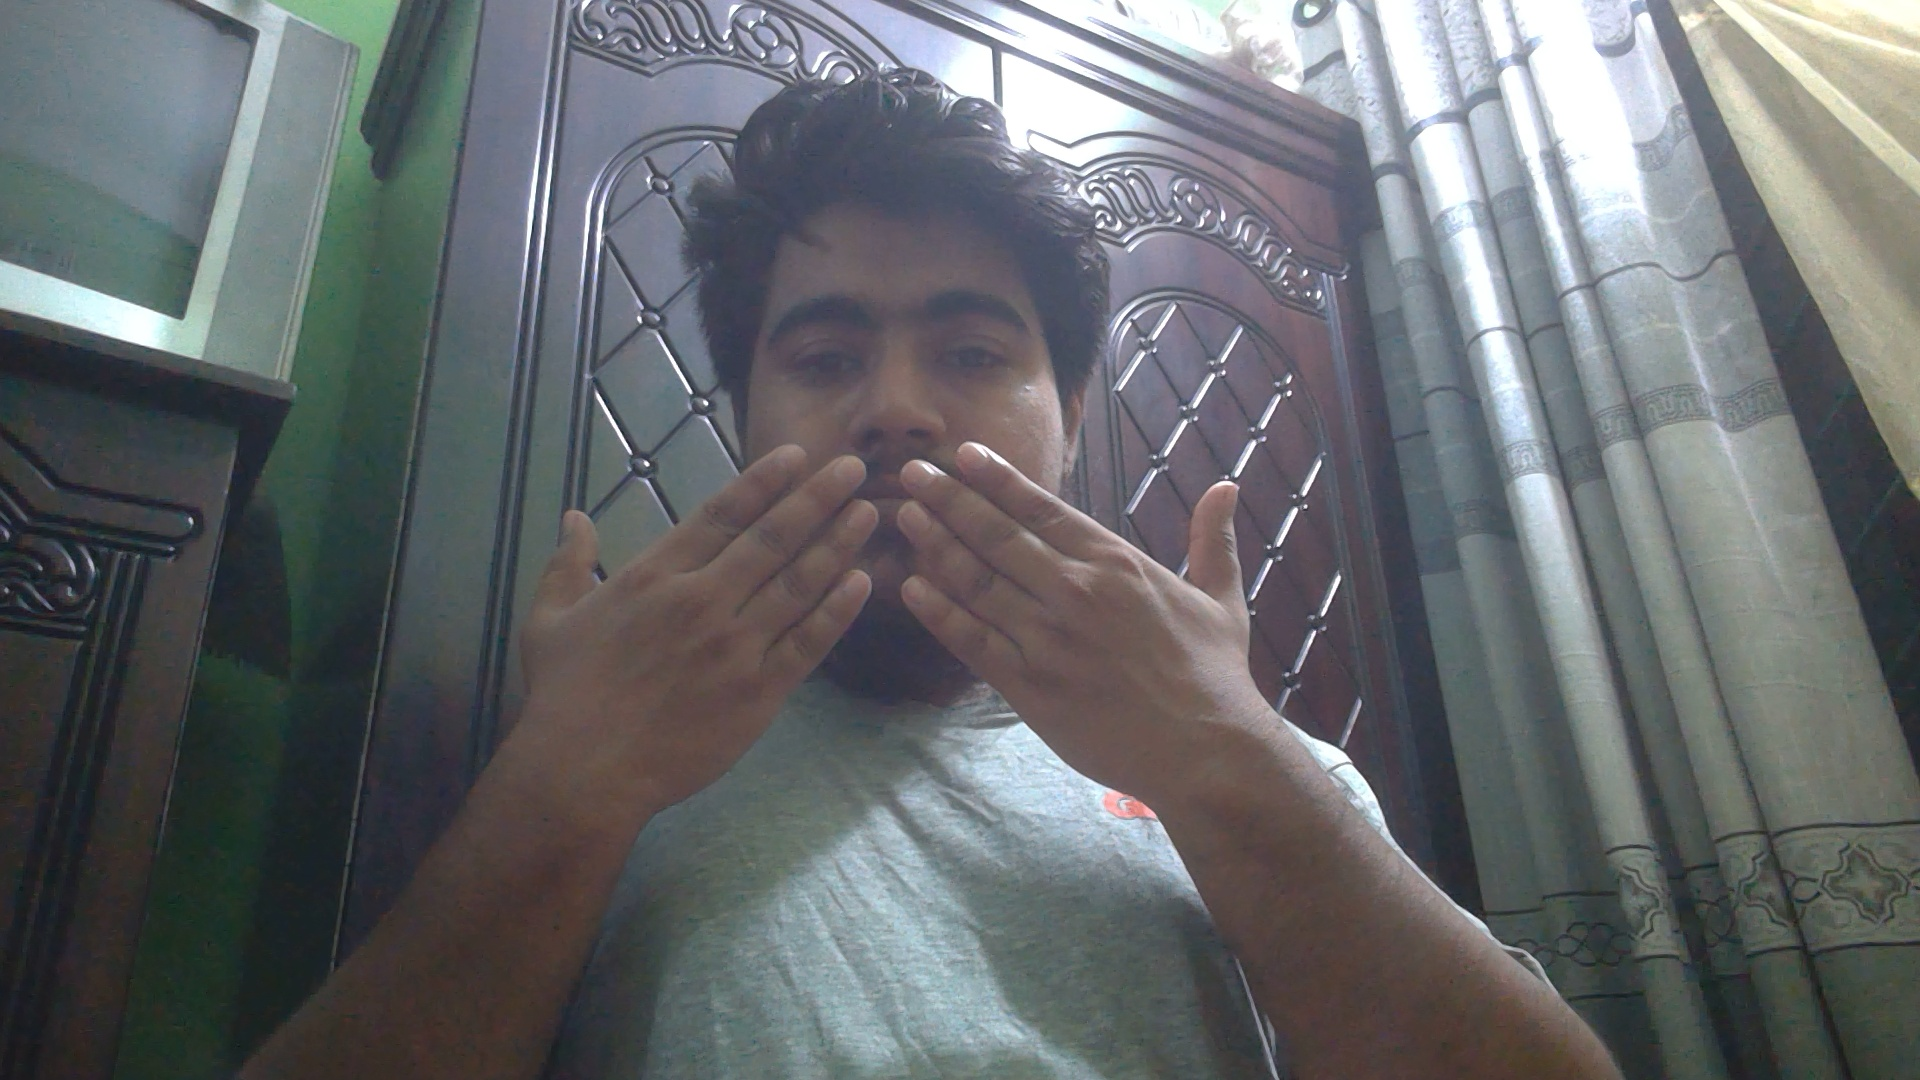thanks: (500, 433, 1265, 770)
